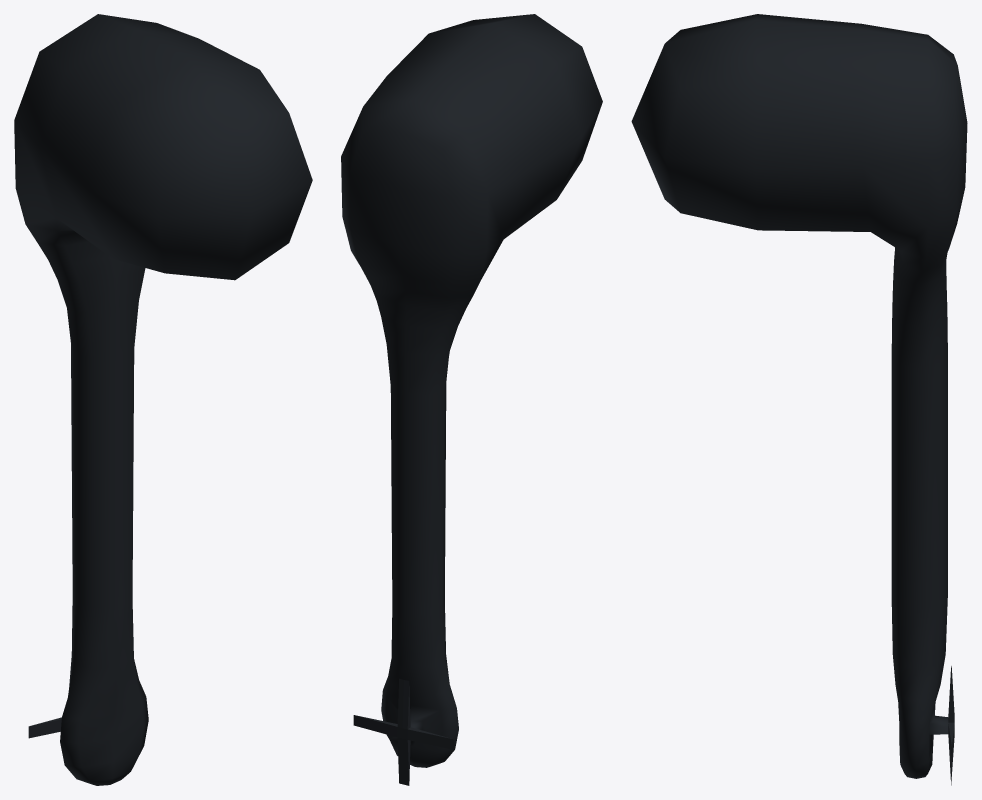
File: engine.fbx
3 views of the same model, side by side, from view 1: azimuth 30°, elevation 25°; view 2: azimuth 150°, elevation 25°; view 3: azimuth 270°, elevation 25° (orthographic). The views are drawn at different scales.
Parts seen in each view (by area): view 1: Engine; view 2: Engine; view 3: Engine.
Boxes of the visible parts, left/top/right/bottom form: Engine: left=14, top=14, right=312, bottom=785; Engine: left=341, top=14, right=602, bottom=785; Engine: left=631, top=14, right=967, bottom=785.
Size of the model in its own units: 88.33 by 332 by 133.
1 material, 1 textured.
